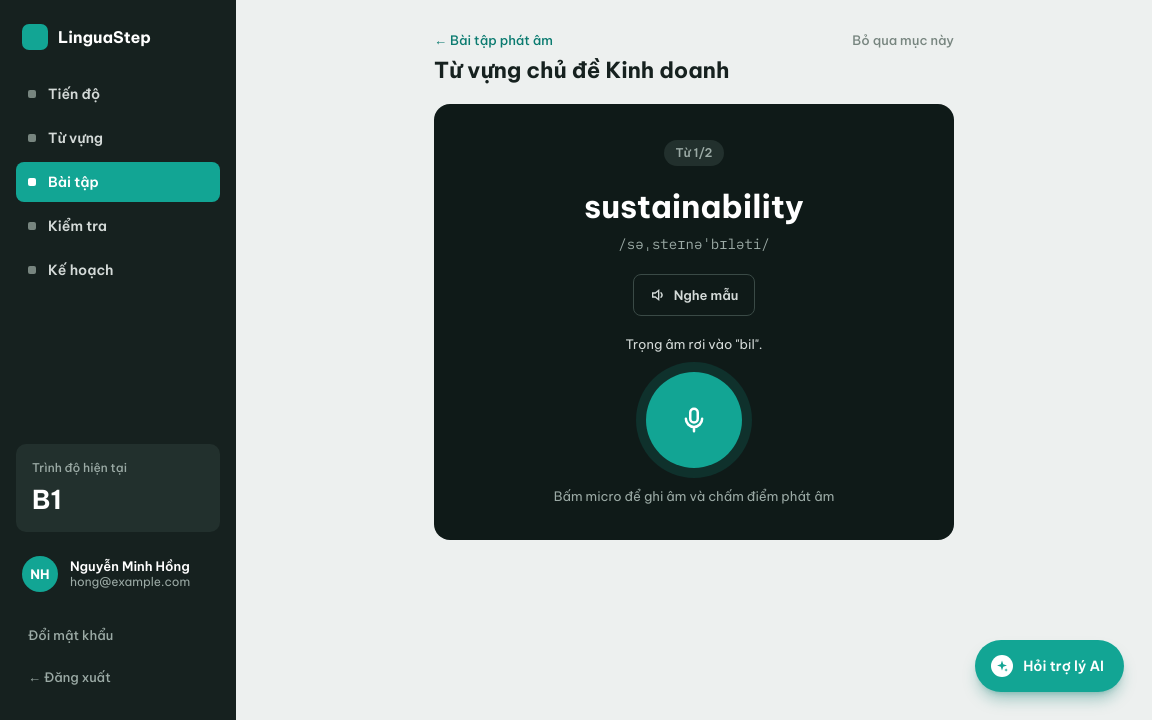
Test: pronunciation exercise › explains a recording without speech, a blocked microphone, and a recording that is too short
The image size is (1152, 720).
Expected: the text "Từ 1/2" is shown, [664,140,724,166]
Step 1. Click the button named "Bắt đầu ghi âm" → point(694, 420), box [646,372,742,468]
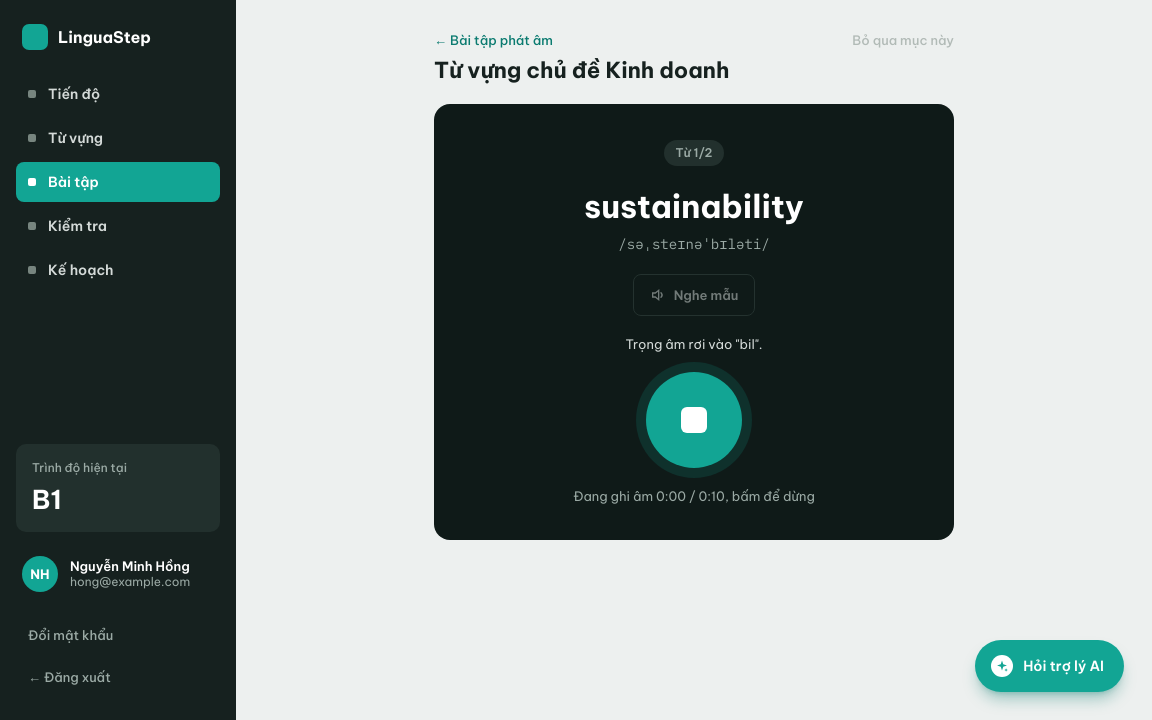
Step 2. Click the button named "Dừng ghi âm" → point(694, 420), box [646,372,742,468]
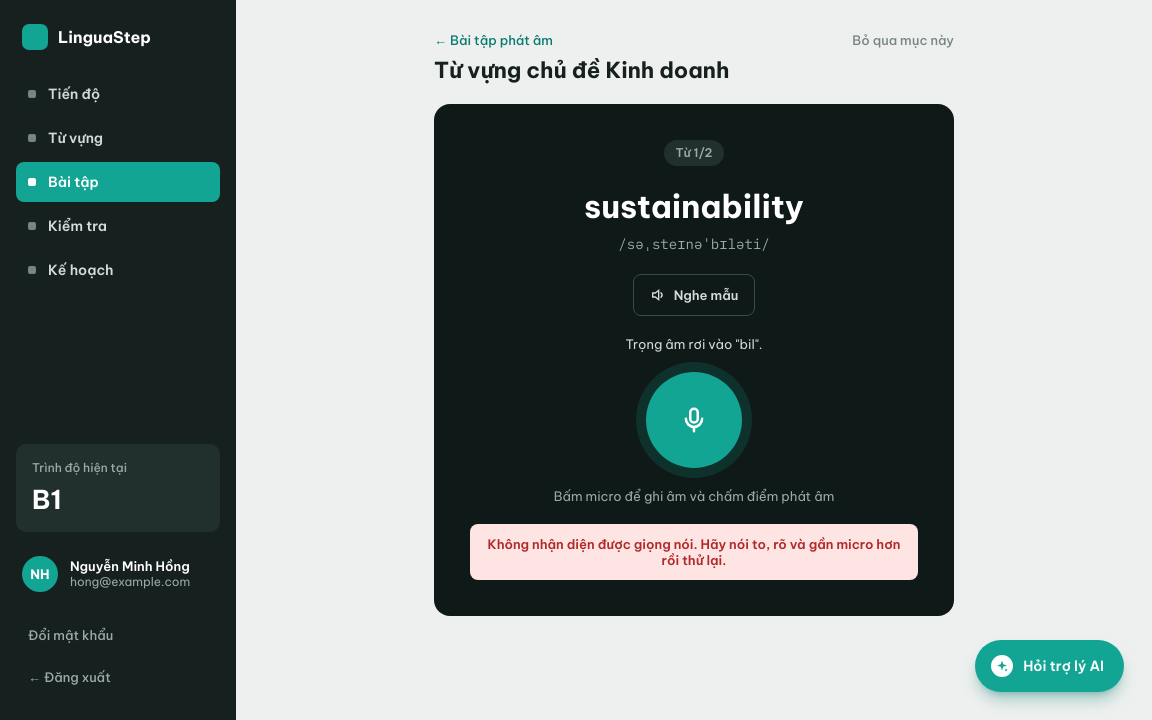
Now the message shows "Không nhận diện được giọng nói", box [488,536,900,568]
Step 3. Click the button named "Bắt đầu ghi âm" → point(694, 420), box [646,372,742,468]
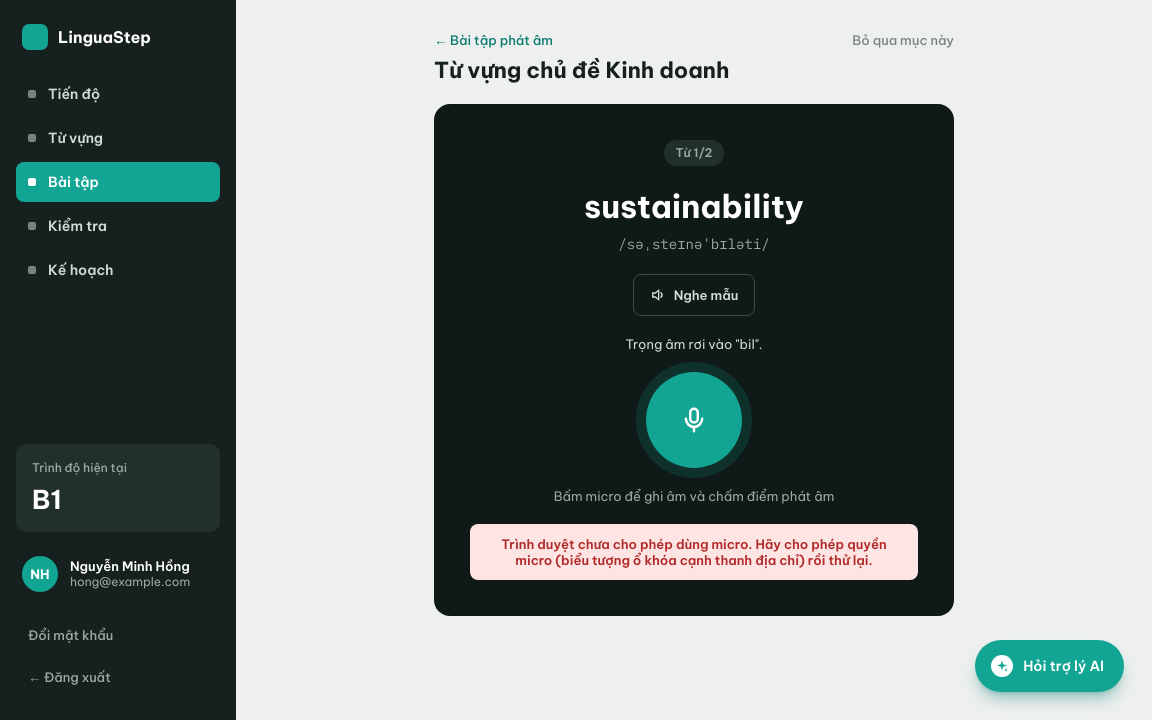
Now the message shows "Trình duyệt chưa cho phép dùng micro", box [501,536,887,568]
Step 4. Click the button named "Bắt đầu ghi âm" → point(694, 420), box [646,372,742,468]
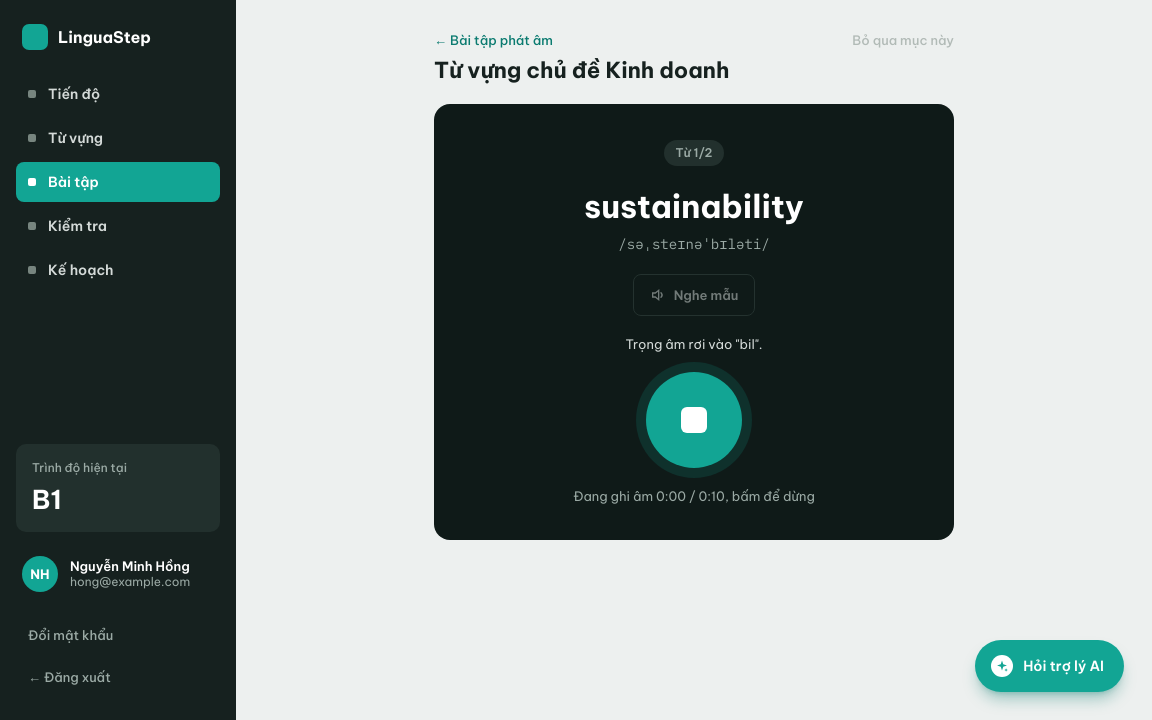
Step 5. Click the button named "Dừng ghi âm" → point(694, 420), box [646,372,742,468]
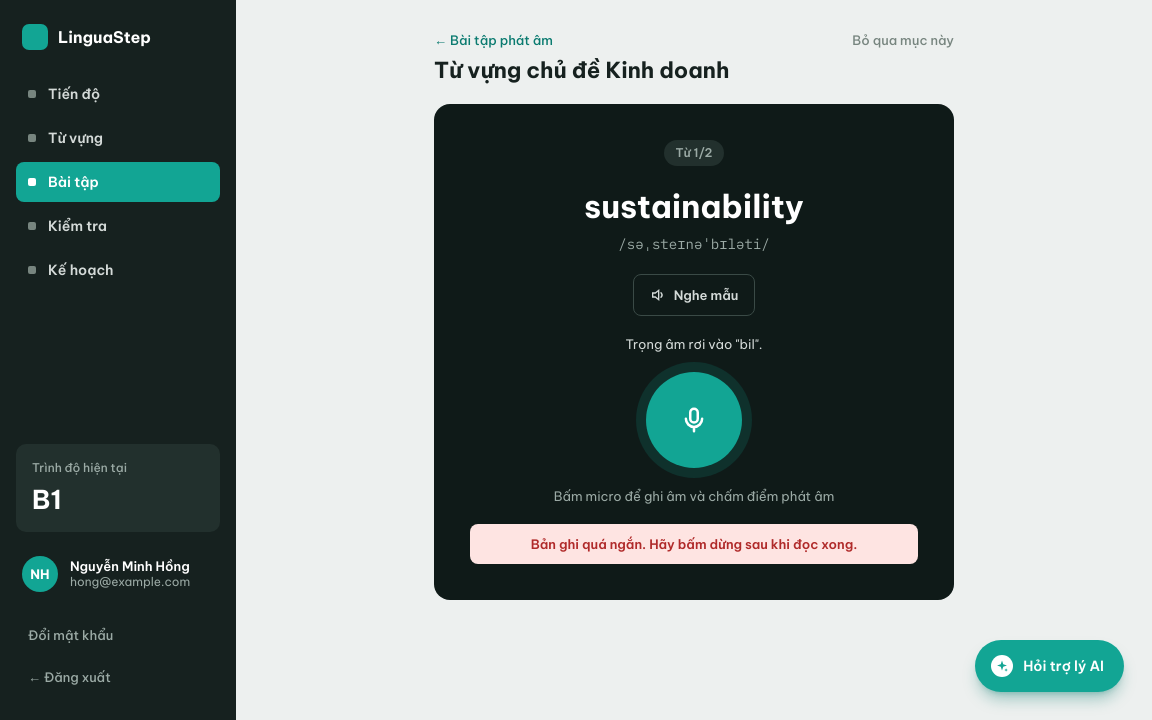
Now the message shows "Bản ghi quá ngắn", box [531,536,857,552]
